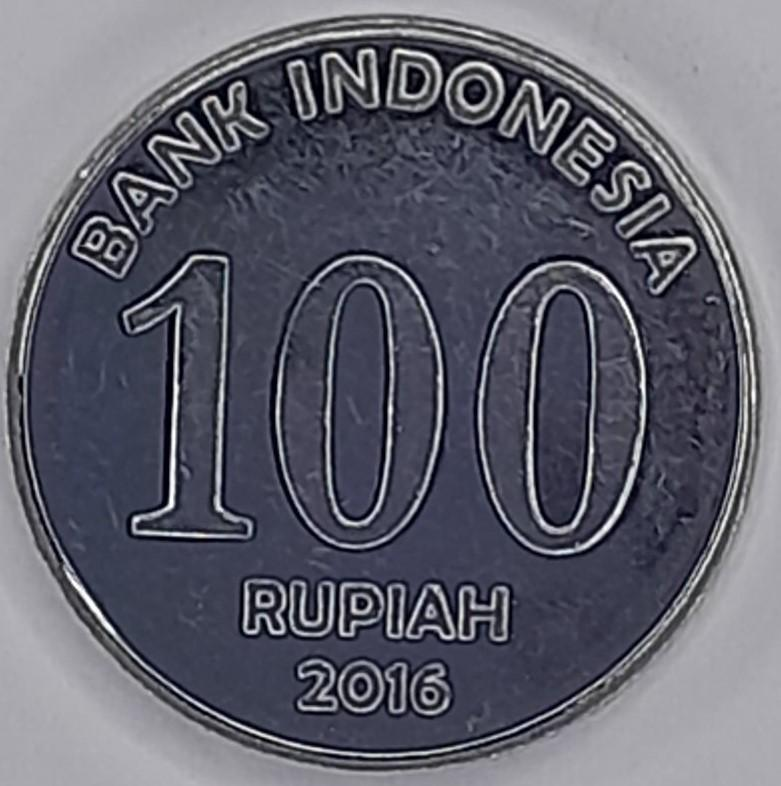coin_100_e2016: (0, 7, 765, 772)
